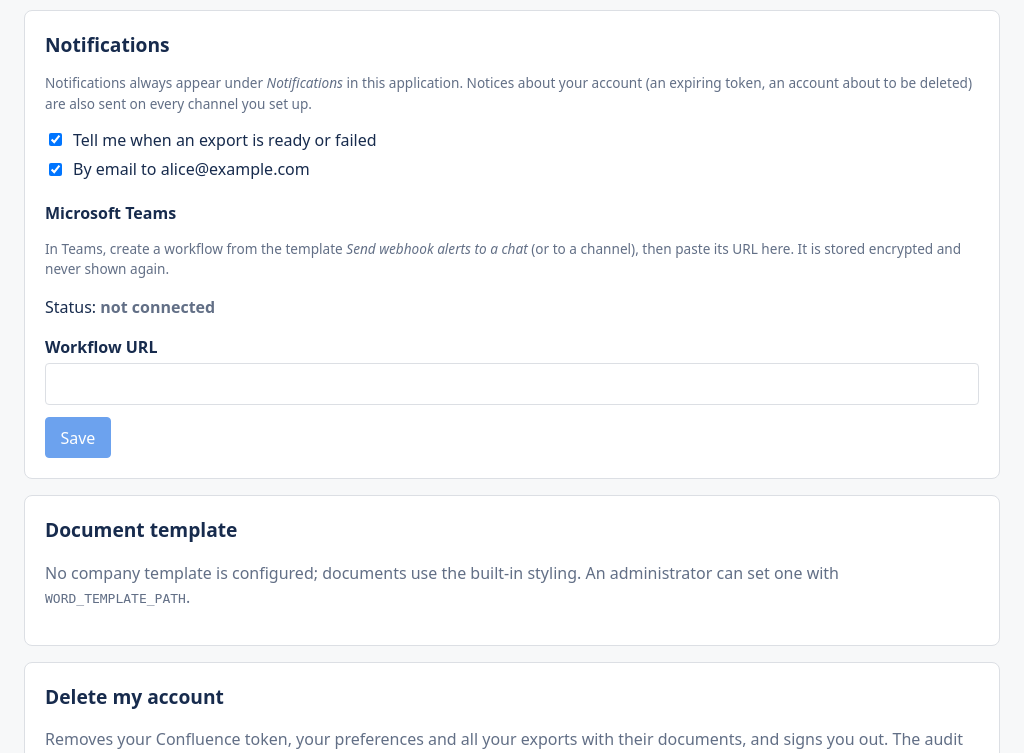
Scenario: Notification settings › saves the Teams workflow and sends a test message
(page scrolled)
Type "https://prod.logic.azure.com/w" into the password field labelled "Workflow URL" at (512, 384), box top-left (45, 364), bottom-right (979, 406)
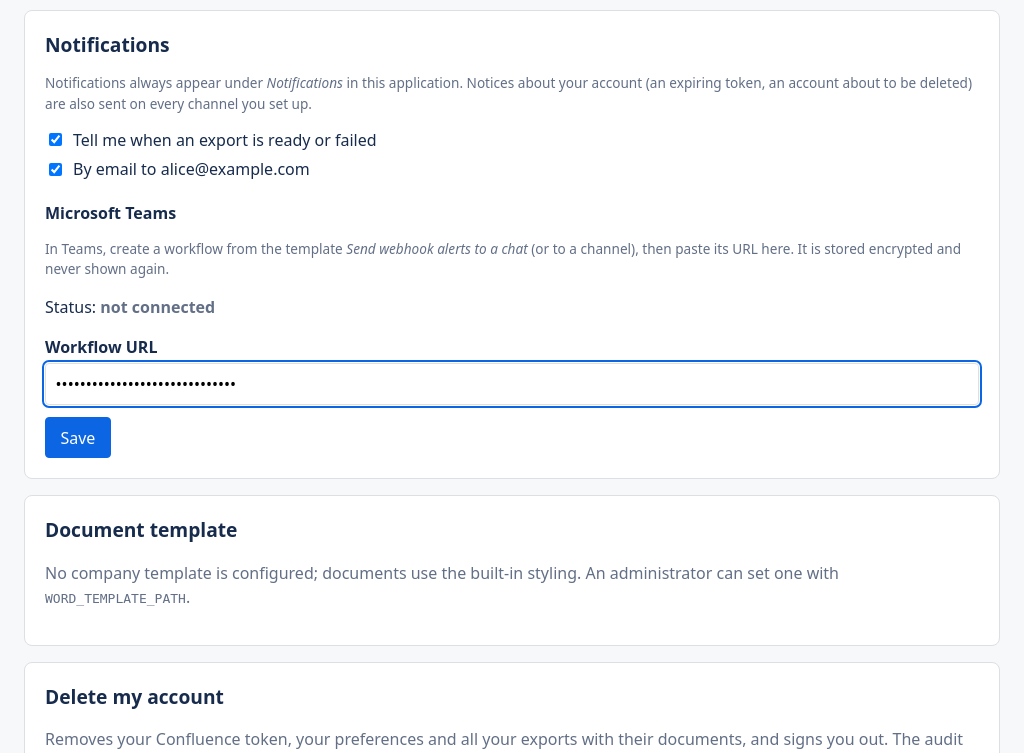
Click the button "Save" at (78, 438), box top-left (45, 418), bottom-right (111, 458)
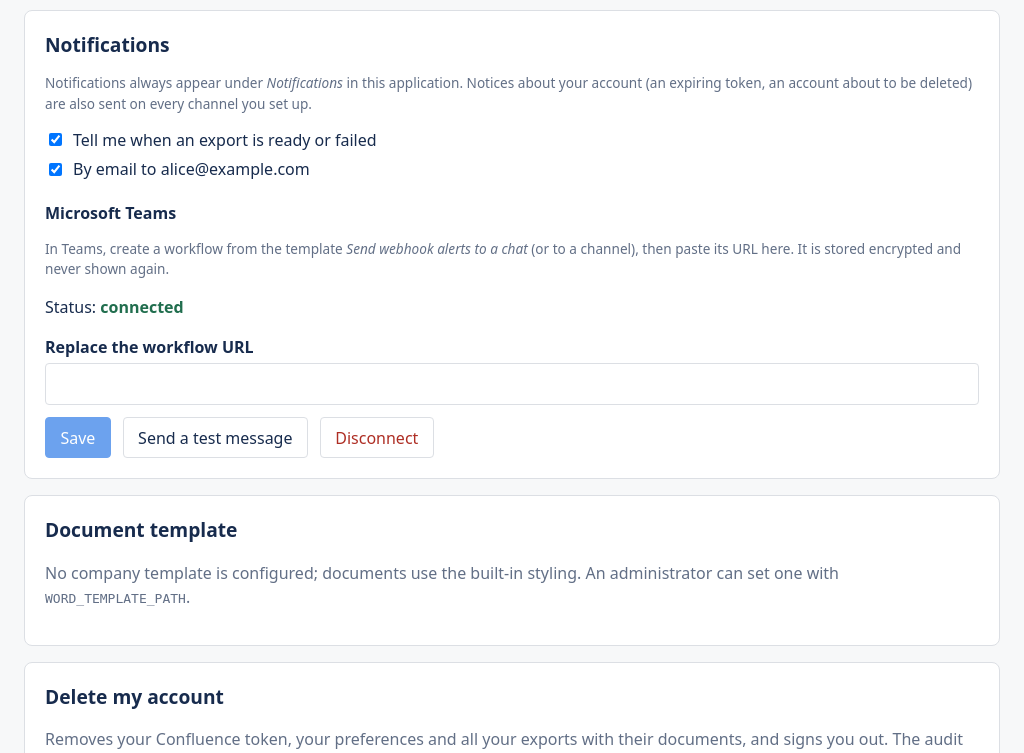
Click the button "Send a test message" at (215, 438), box top-left (123, 418), bottom-right (308, 458)
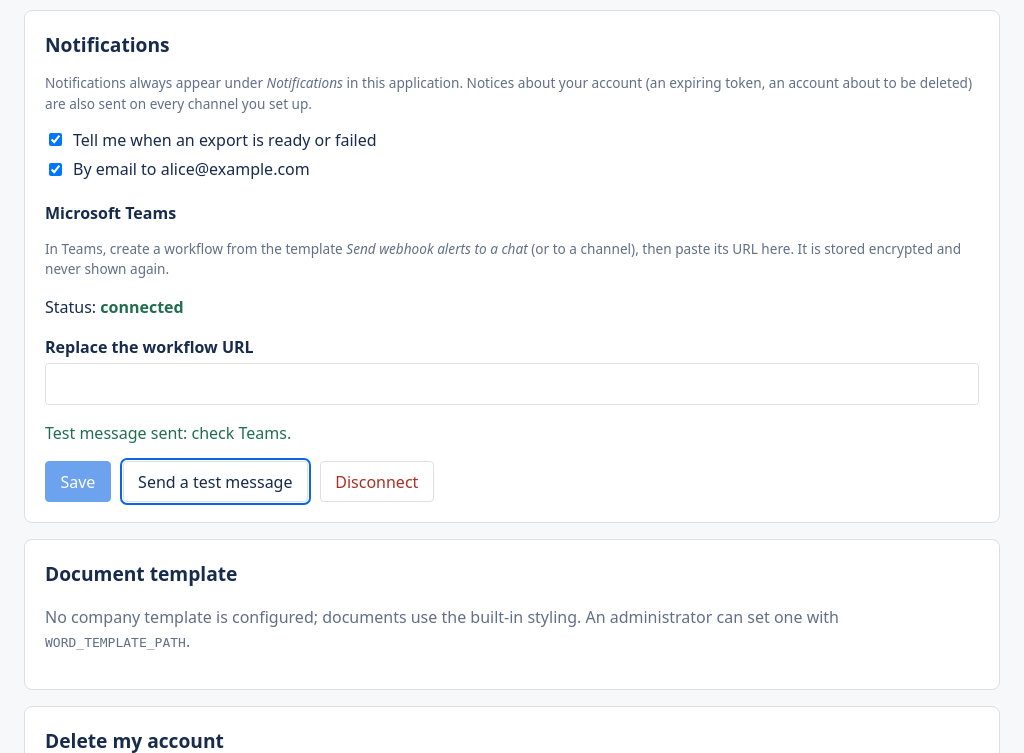
Expected: the text "Test message sent: check Teams." is shown, top-left (45, 422), bottom-right (291, 444)
